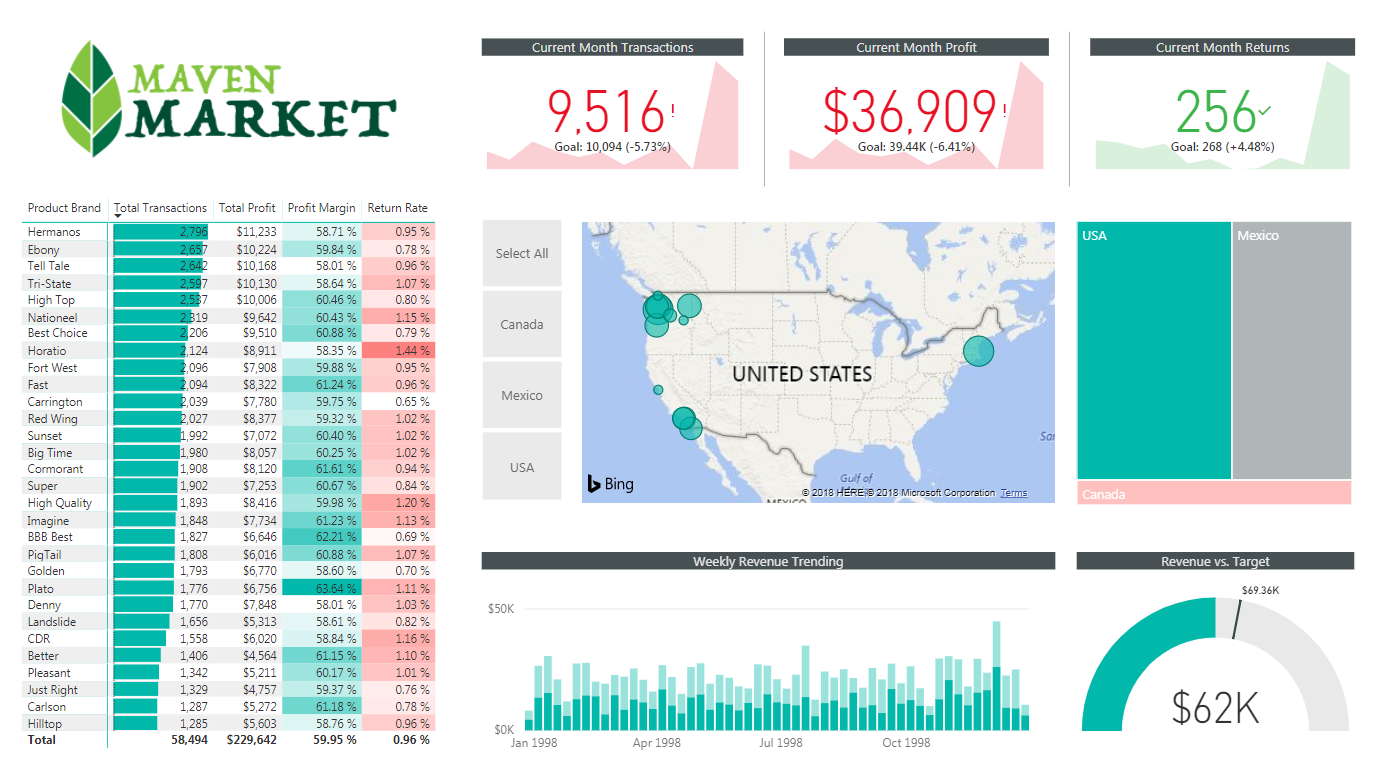

The page's visual inventory and layout, read from the dashboard file:
{"tool":"powerbi","page":{"name":"Page 1","canvas":[1300,800],"ordinal":0},"visuals":[{"type":"shape","box":[1038.8,29.9,239,149.4],"z":0,"group":"g4"},{"type":"group","id":"g1","title":"KPI 1","box":[506.1,31.6,239,149.4],"z":0,"group":"g3"},{"type":"shape","box":[506.1,31.6,239,149.4],"z":0,"group":"g1"},{"type":"shape","box":[771.6,33.2,239,149.4],"z":0,"group":"g2"},{"type":"pivotTable","title":"Top 30 Products brand","fields":{"Rows":["Product lookup.product_brand"],"Values":["Measure.Total Transactions","Measure.Total profit","Measure.Profit Margin","Measure.Return Rate"]},"box":[0,116.2,506.1,683.7],"z":0},{"type":"image","box":[18.3,0,468,104.5],"z":1000},{"type":"card","fields":{"Values":["Measure.Total Returns"]},"box":[1038.8,29.9,239,149.4],"z":1000,"group":"g4"},{"type":"group","id":"g2","title":"KPI 1","box":[771.6,31.2,240.7,151.3],"z":1000,"group":"g3"},{"type":"card","fields":{"Values":["Measure.Total profit"]},"box":[773.3,31.2,239,149.4],"z":1000,"group":"g2"},{"type":"card","fields":{"Values":["Measure.Total Transactions"]},"box":[506.1,31.6,239,149.4],"z":1000,"group":"g1"},{"type":"group","id":"g3","title":"KPIs","box":[506.1,29.9,771.7,152.7],"z":2000},{"type":"group","id":"g4","title":"KPI 1","box":[1038.8,29.9,239,149.4],"z":2000,"group":"g3"},{"type":"map","fields":{"Category":["Store lookup.store_city"],"Size":["Measure.Total Transactions"]},"box":[625.6,205.8,386.7,318.6],"z":2001},{"type":"slicer","fields":{"Values":["Customers lookup.Short Country"]},"box":[506.1,212.4,117.8,278.8],"z":2002},{"type":"treemap","fields":{"Values":["Measure.Total Transactions"],"Group":["Store lookup.store_city","Store lookup.store_state","Store lookup.store_country"]},"box":[1023.9,205.8,267.2,318.6],"z":2003},{"type":"stackedAreaChart","title":"Revenue by Month","fields":{"Category":["Calendar lookup.Start of Month"],"Y":["Measure.Total Revenue"]},"box":[506.1,544.3,496.2,235.6],"z":2004},{"type":"gauge","fields":{"Y":["Measure.Total Revenue"],"TargetValue":["Measure.Revenue target"]},"box":[1012.3,544.3,265.5,224],"z":2005}]}

Visuals, with their boxes on the page's 1300x800 design canvas (x1, y1, x2, y2). These are canvas units, not pixel positions in the 1379x778 screenshot, which may show the page scaled, cropped or inside an application window:
shape: 1039:30:1278:179
"KPI 1" group: 506:32:745:181
shape: 506:32:745:181
shape: 772:33:1011:183
"Top 30 Products brand" pivotTable: 0:116:506:800
image: 18:0:486:104
card - Measure.Total Returns: 1039:30:1278:179
"KPI 1" group: 772:31:1012:182
card - Measure.Total profit: 773:31:1012:181
card - Measure.Total Transactions: 506:32:745:181
"KPIs" group: 506:30:1278:183
"KPI 1" group: 1039:30:1278:179
map - Store lookup.store_city x Measure.Total Transactions: 626:206:1012:524
slicer - Customers lookup.Short Country: 506:212:624:491
treemap - Measure.Total Transactions x Store lookup.store_city: 1024:206:1291:524
"Revenue by Month" stackedAreaChart: 506:544:1002:780
gauge - Measure.Total Revenue x Measure.Revenue target: 1012:544:1278:768
